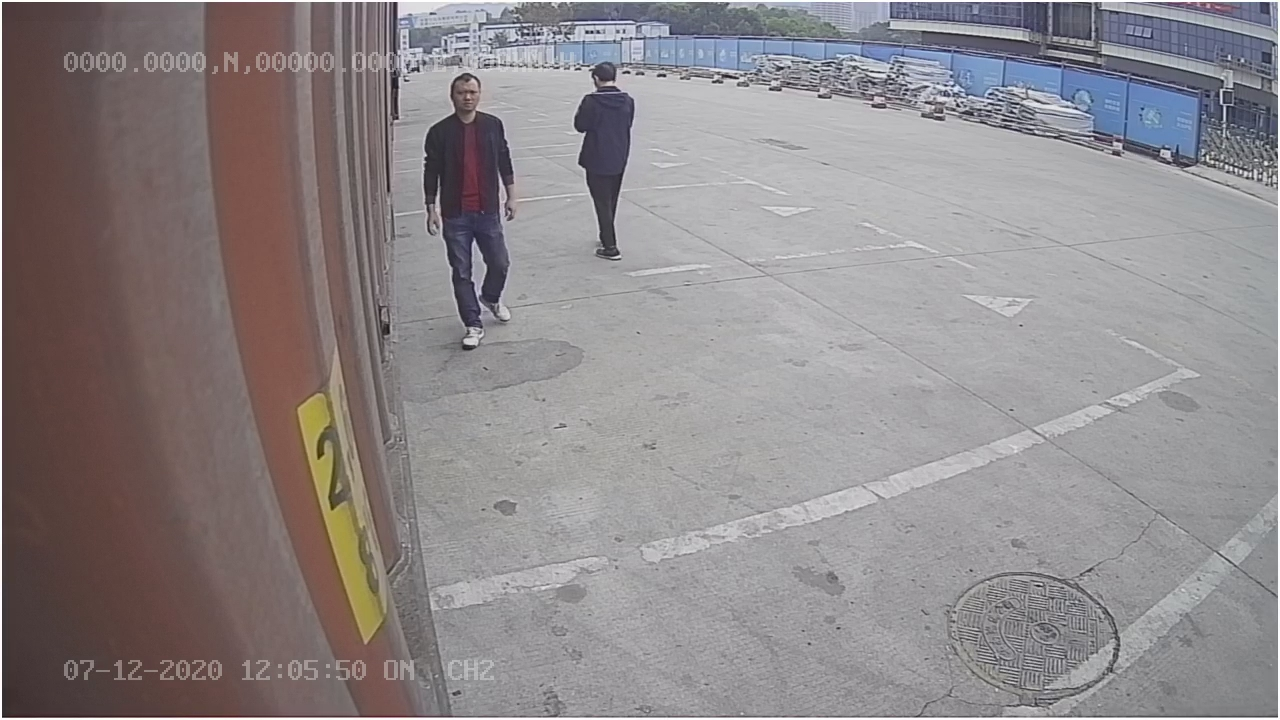person: (419, 68, 521, 350)
